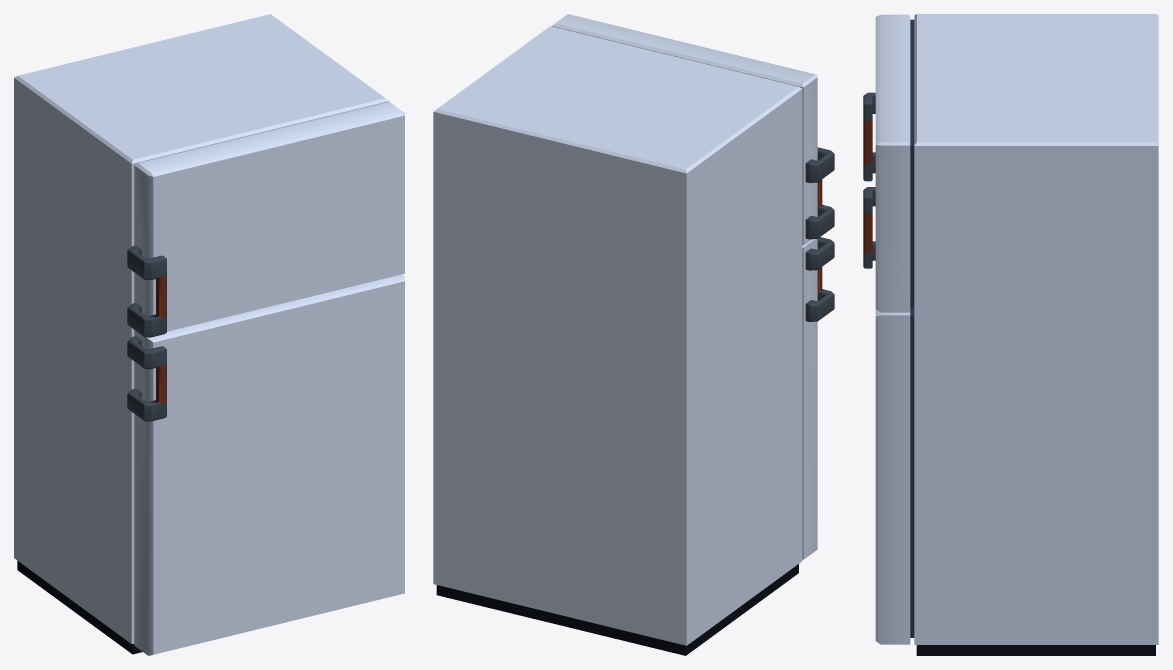
File: SM_Fridge.fbx
The picture shows the model from 3 angles, left to right: view 1: azimuth 30°, elevation 25°; view 2: azimuth 150°, elevation 25°; view 3: azimuth 270°, elevation 25°; orthographic projection. The views are drawn at different scales.
Visible parts, largest first — view 1: SM_Fridge; view 2: SM_Fridge; view 3: SM_Fridge.
Part boxes in pixels (x1=…): SM_Fridge: x1=14, y1=14, x2=404, y2=655; SM_Fridge: x1=433, y1=14, x2=834, y2=655; SM_Fridge: x1=863, y1=14, x2=1158, y2=655.
Size of what is drawn, in the model's own units: 1247 by 2202 by 1148.
